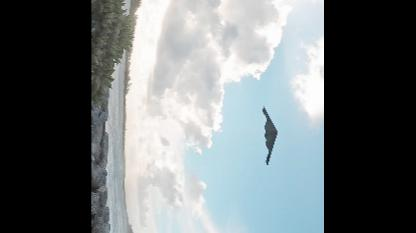B1: (263, 104, 278, 165)
